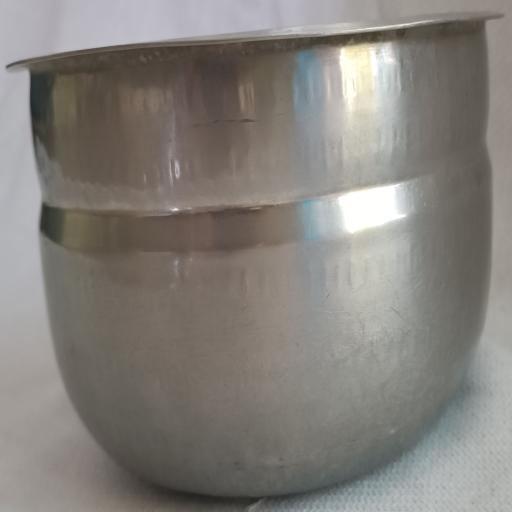vessel: (18, 14, 494, 495)
